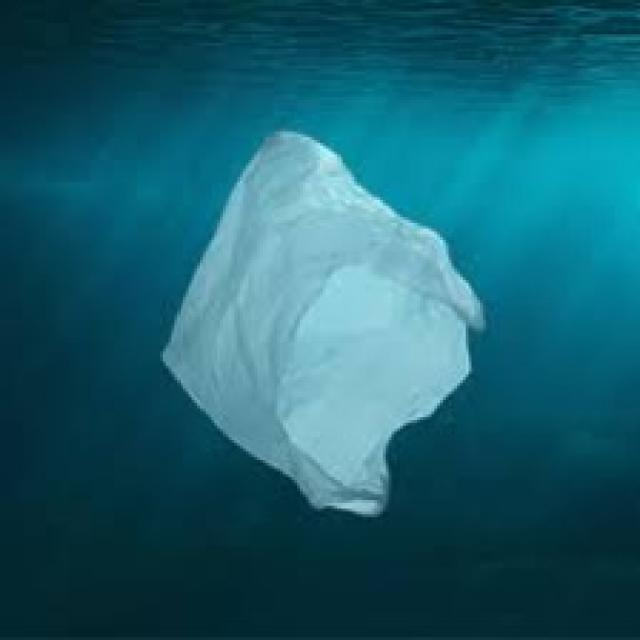plastic_bag: (153, 126, 495, 541)
